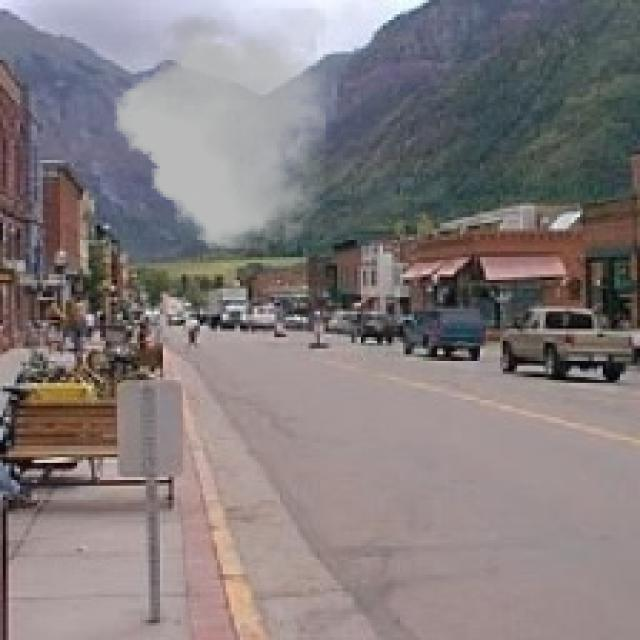Smoke: (114, 8, 326, 255)
